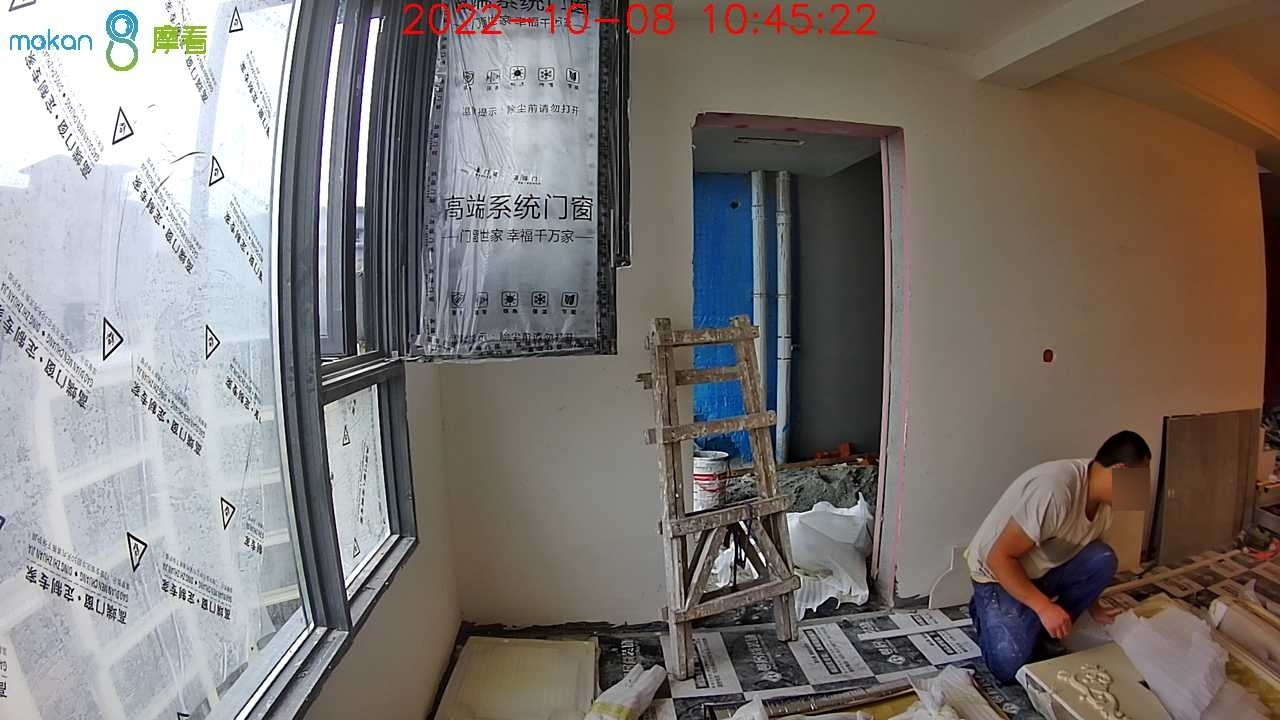people: (959, 431, 1152, 677)
window: (3, 2, 419, 720)
